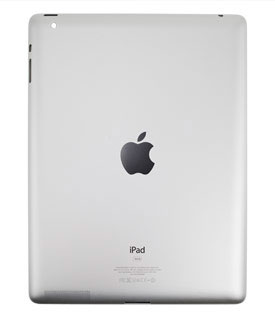apple: (108, 116, 184, 190)
